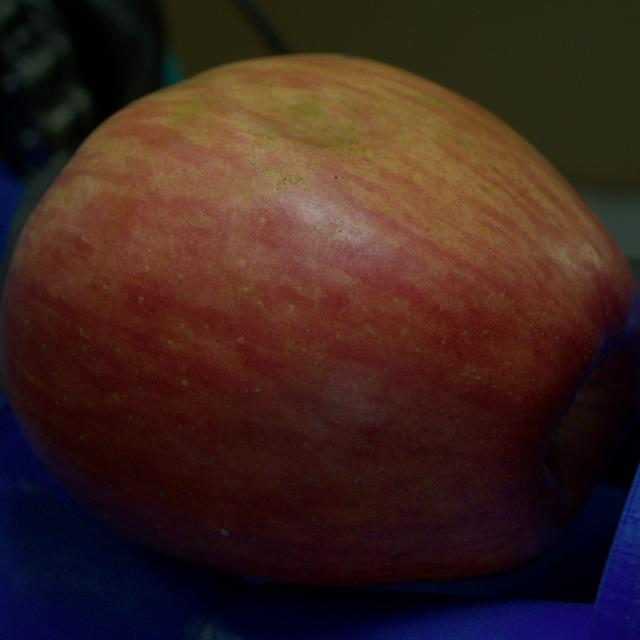apple: (0, 54, 639, 585)
bruise: (238, 92, 429, 150)
